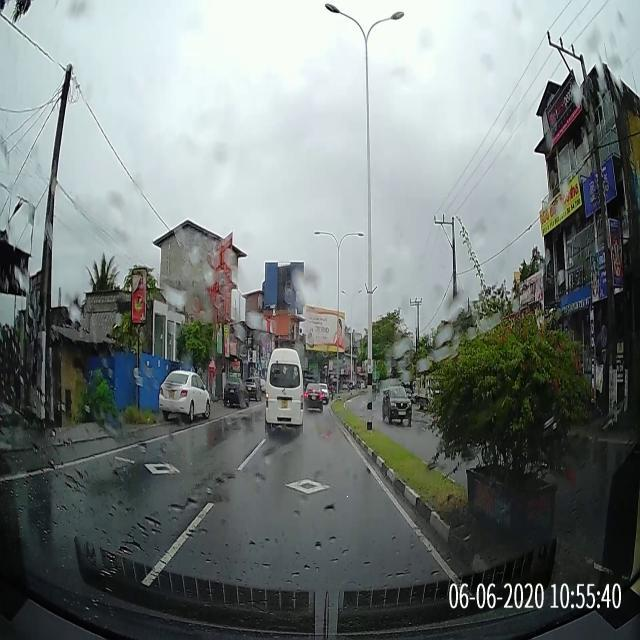diamond: (214, 471, 396, 499)
